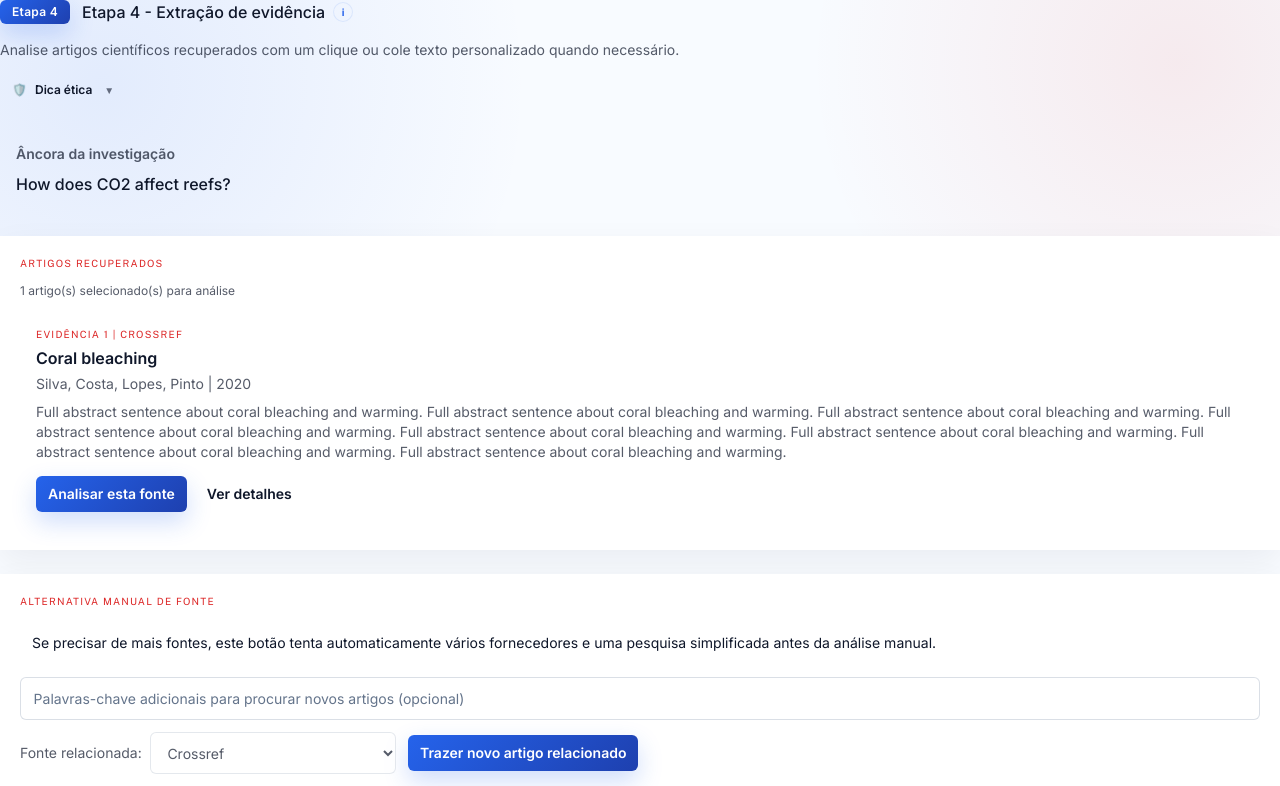
Test: Step 3 - article details drawer › shows the full abstract, every author and safe external links
The width and height of the screenshot is (1280, 786).
Step 1. Click the button with aria-label "Ver detalhes: Coral bleaching" → coordinates (249, 494), box [195, 474, 304, 514]
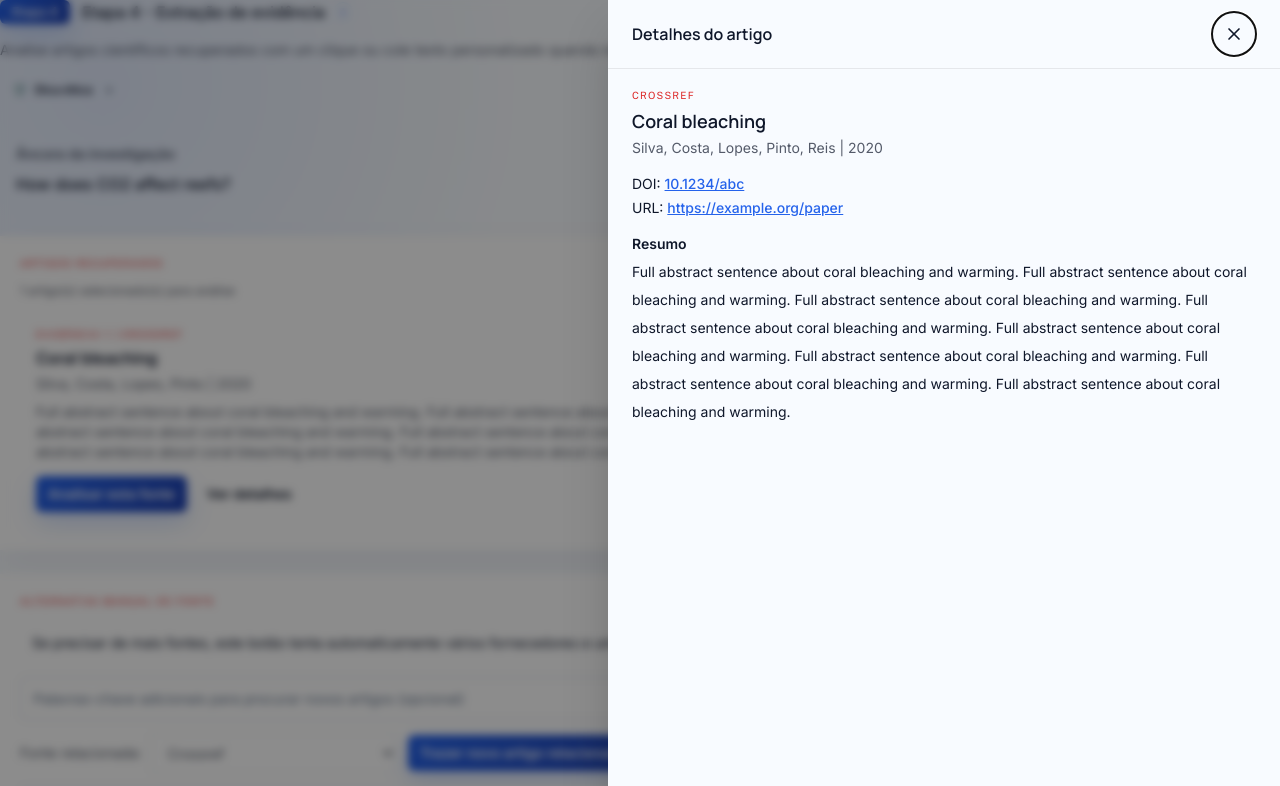
Expected: the text "Silva, Costa, Lopes, Pinto, Reis | 2020" is shown, [632, 139, 883, 156]
